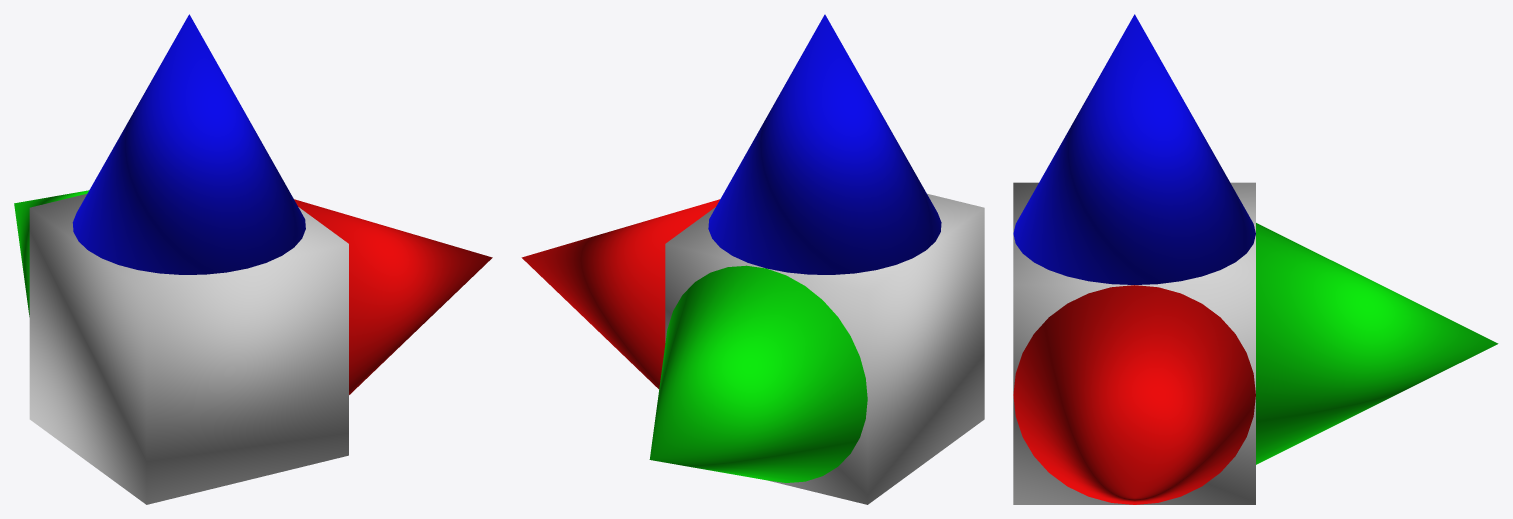
File: orienter.fbx
The picture shows the model from 3 angles, left to right: view 1: azimuth 30°, elevation 25°; view 2: azimuth 150°, elevation 25°; view 3: azimuth 270°, elevation 25°; orthographic projection. The views are drawn at different scales.
Parts seen in each view (by area): view 1: Cube; view 2: Cube; view 3: Cube.
Part boxes in pixels (bbox=[...]): Cube: bbox=[14, 14, 492, 504]; Cube: bbox=[521, 14, 984, 504]; Cube: bbox=[1013, 14, 1498, 504].
Bounding box in the file's own units: 1 × 1 × 1.
